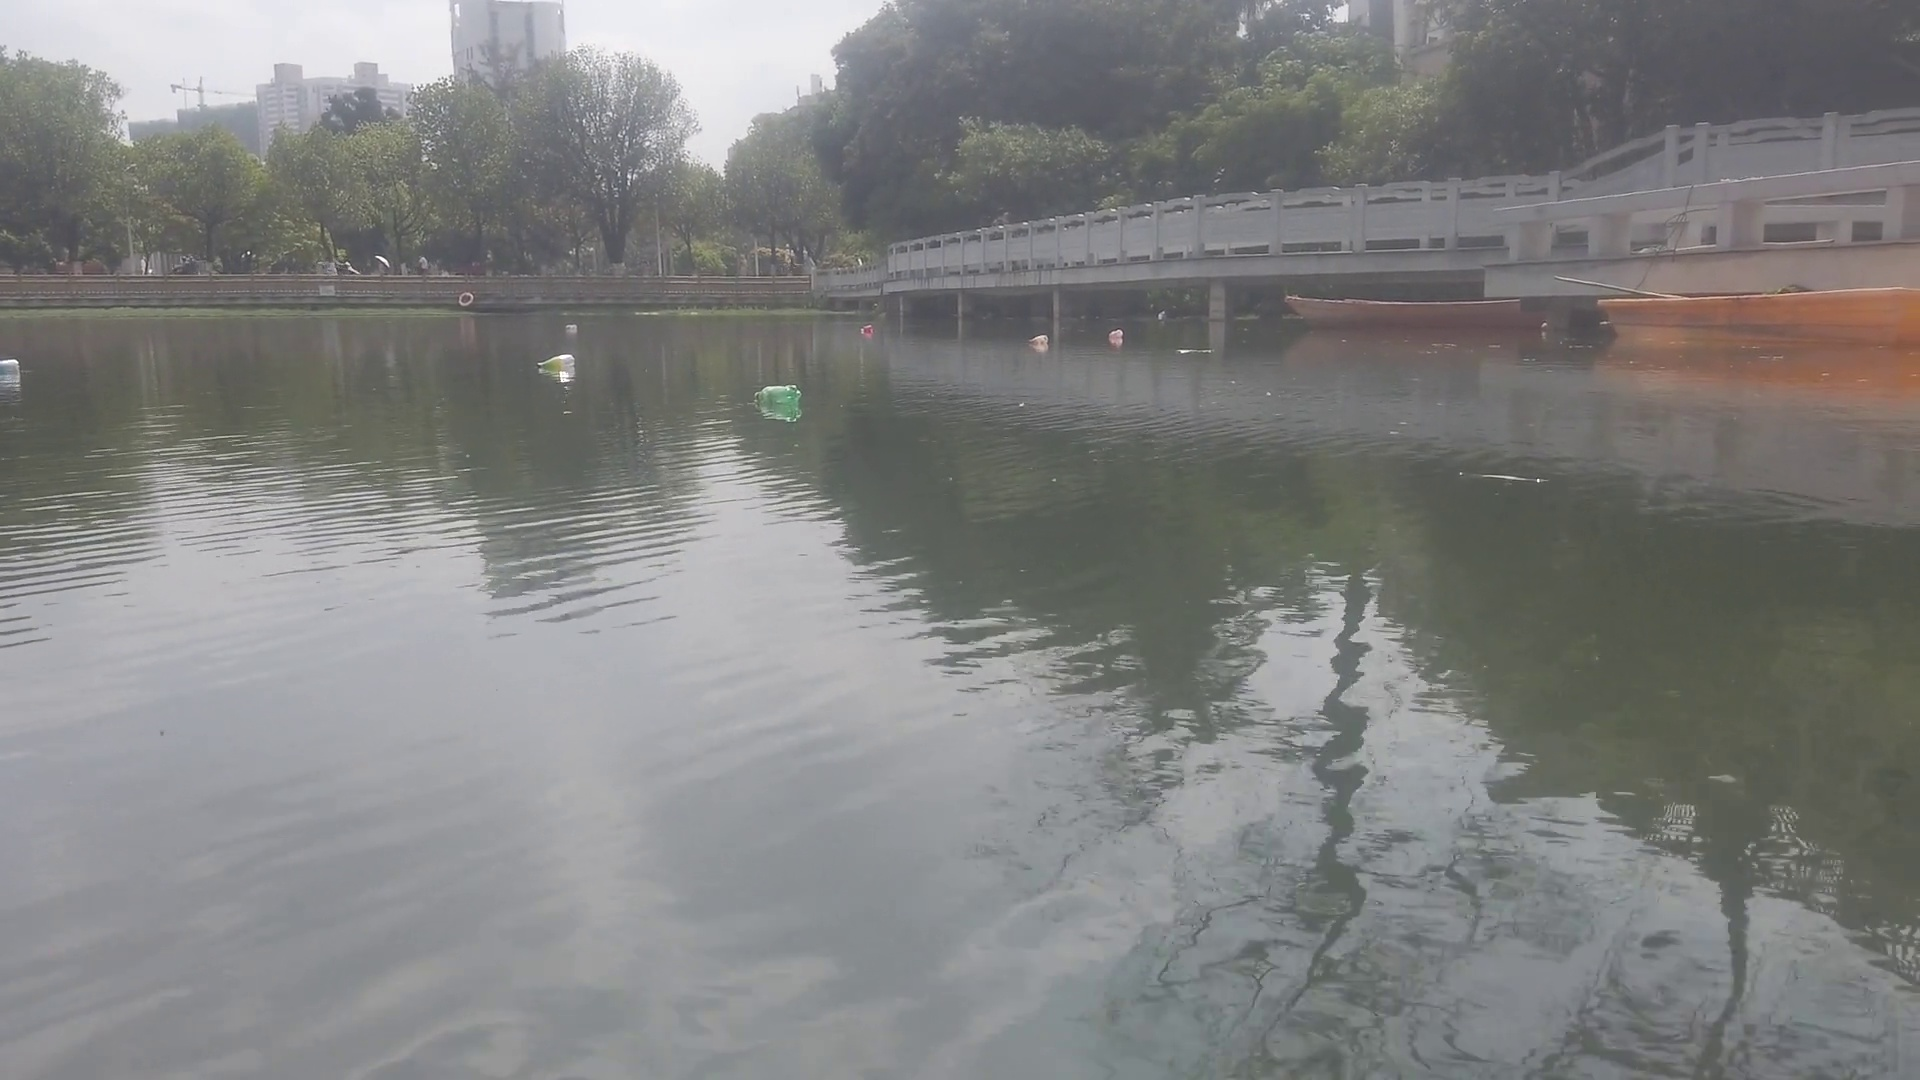bottle: (750, 382, 804, 406), (533, 348, 578, 369), (1, 356, 24, 376), (1026, 330, 1048, 345), (1106, 326, 1126, 340), (563, 319, 578, 332), (858, 323, 872, 334)
paper: (1174, 344, 1218, 360)
